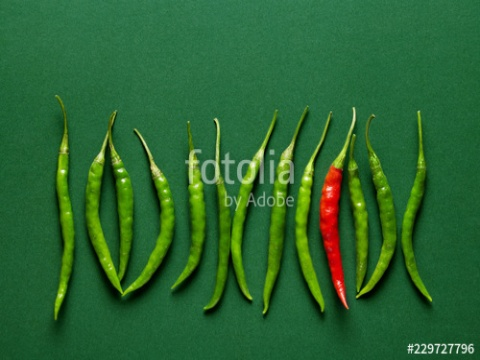Chilli: (37, 83, 78, 331), (400, 90, 439, 312), (129, 120, 173, 306), (294, 104, 325, 319)
